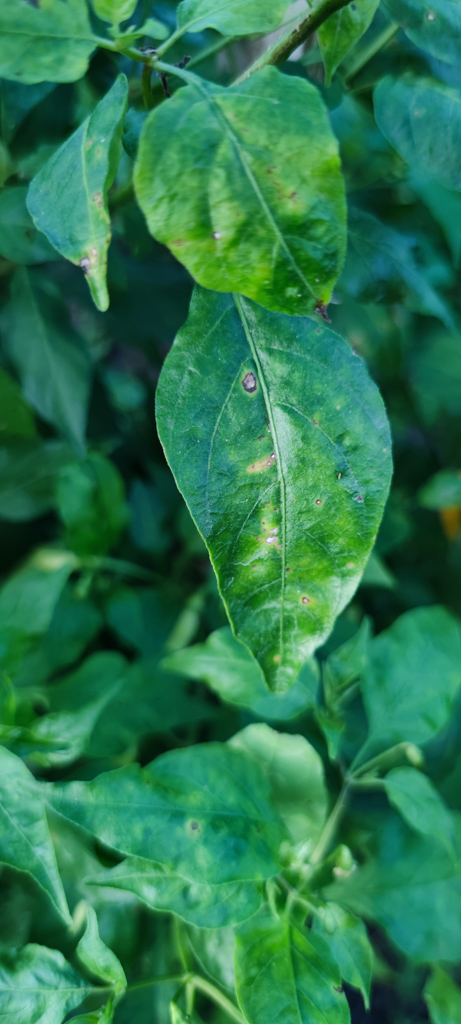frog-eye leafspot: (264, 160, 308, 214), (233, 357, 270, 409), (258, 516, 284, 553), (245, 451, 279, 475), (79, 245, 99, 282), (298, 592, 315, 609), (210, 227, 226, 245), (310, 494, 324, 507)
